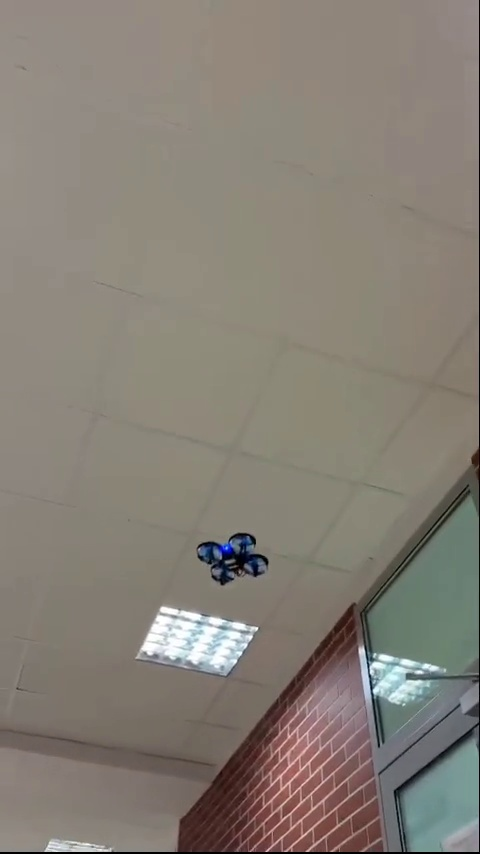drone: (200, 533, 268, 587)
